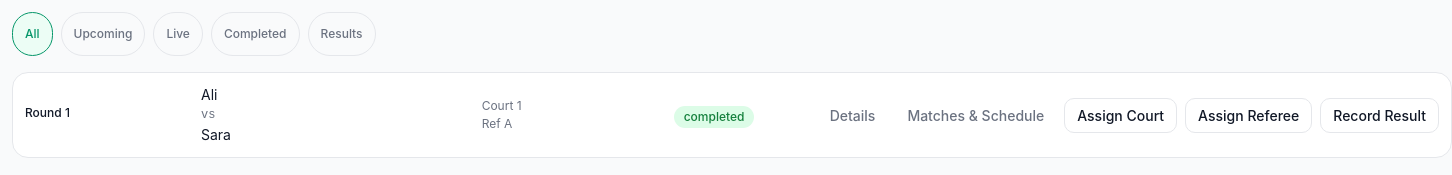
Tournament Hub MatchesManager (Step 3C) › 13. segment empty state
Expected: the text "Ali" is shown, [201,86,218,103]
Click the button "Upcoming" at (103, 34), box [61,12,145,56]
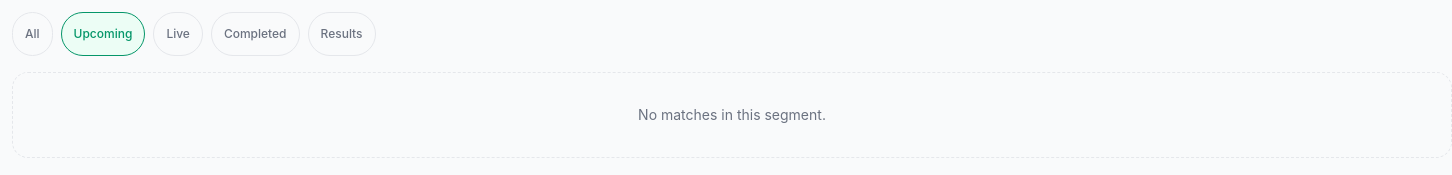
Expected: the text "No matches in this segment." is shown, [12,72,1451,158]
